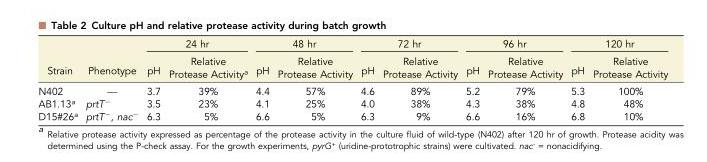table: (37, 37, 667, 122)
table column: (163, 37, 250, 122), (272, 37, 356, 122), (377, 37, 461, 122), (483, 37, 566, 122), (588, 37, 667, 122), (80, 37, 141, 122), (37, 37, 80, 122), (141, 37, 163, 122), (250, 37, 272, 122), (461, 37, 483, 122), (566, 37, 588, 122), (356, 37, 377, 122)
table column header: (37, 37, 667, 82)
table row: (37, 52, 667, 82), (37, 37, 667, 52), (37, 82, 667, 96), (37, 96, 667, 109), (37, 109, 667, 122)
table spanning cell: (80, 37, 141, 82), (37, 37, 80, 82), (141, 37, 250, 52), (250, 37, 356, 52), (356, 37, 461, 52), (461, 37, 566, 52), (566, 37, 667, 52)
